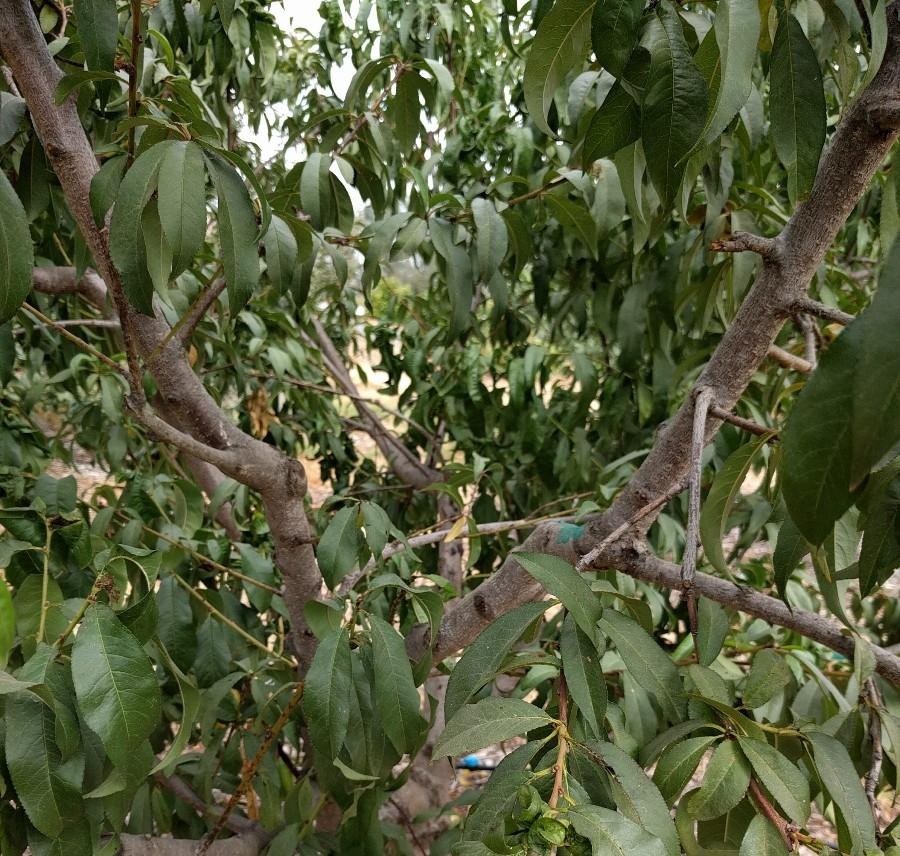Peach leaf: (629, 1, 709, 223), (69, 595, 159, 790), (108, 134, 173, 325), (765, 7, 825, 202), (293, 627, 357, 797), (701, 434, 769, 594), (427, 693, 566, 771), (599, 609, 693, 723), (2, 695, 71, 850), (201, 147, 260, 321), (363, 602, 422, 768), (511, 547, 607, 648), (809, 727, 874, 856), (738, 734, 815, 830), (160, 137, 205, 282), (687, 736, 749, 825), (74, 2, 120, 118), (468, 184, 515, 294), (315, 502, 366, 595), (648, 730, 717, 798), (152, 580, 197, 674), (262, 211, 300, 300), (298, 146, 335, 229), (694, 596, 732, 674), (389, 211, 427, 263)
